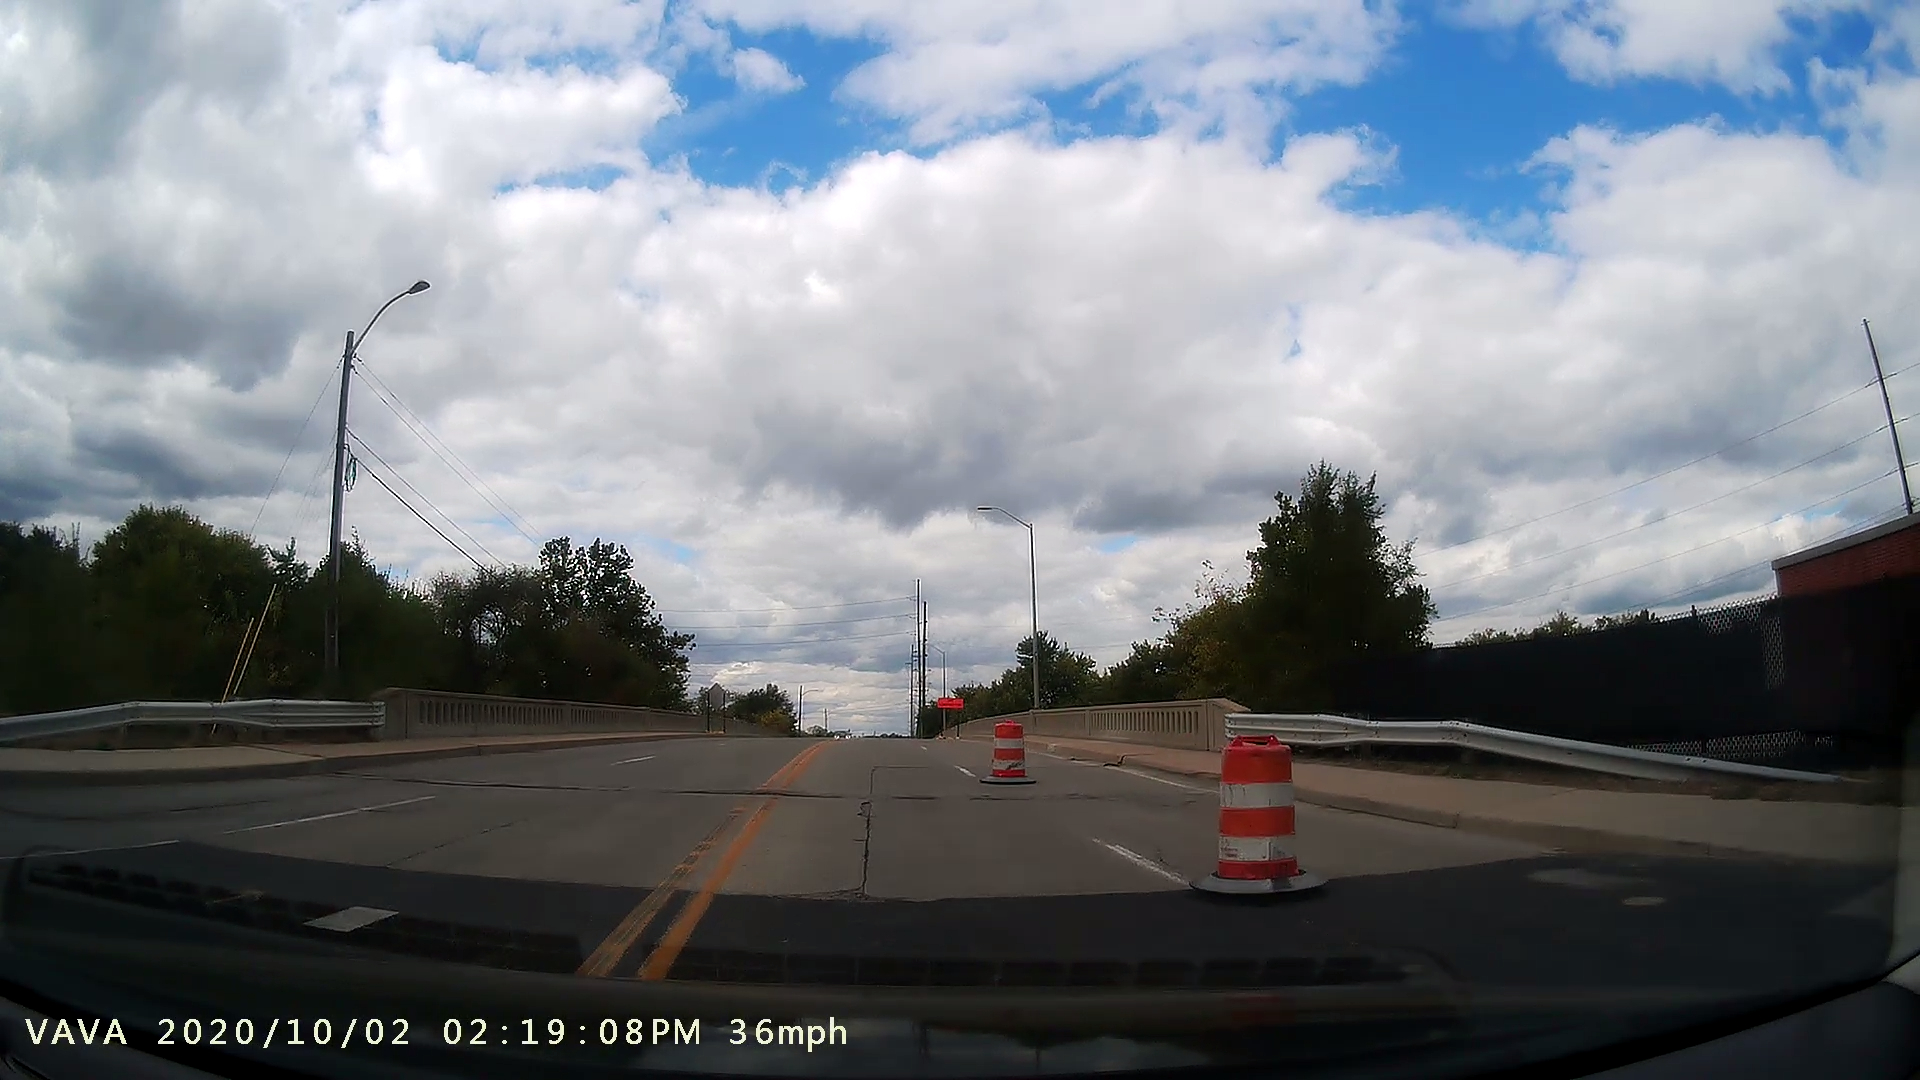const_barrel: (1178, 717, 1335, 903), (977, 700, 1039, 793)
